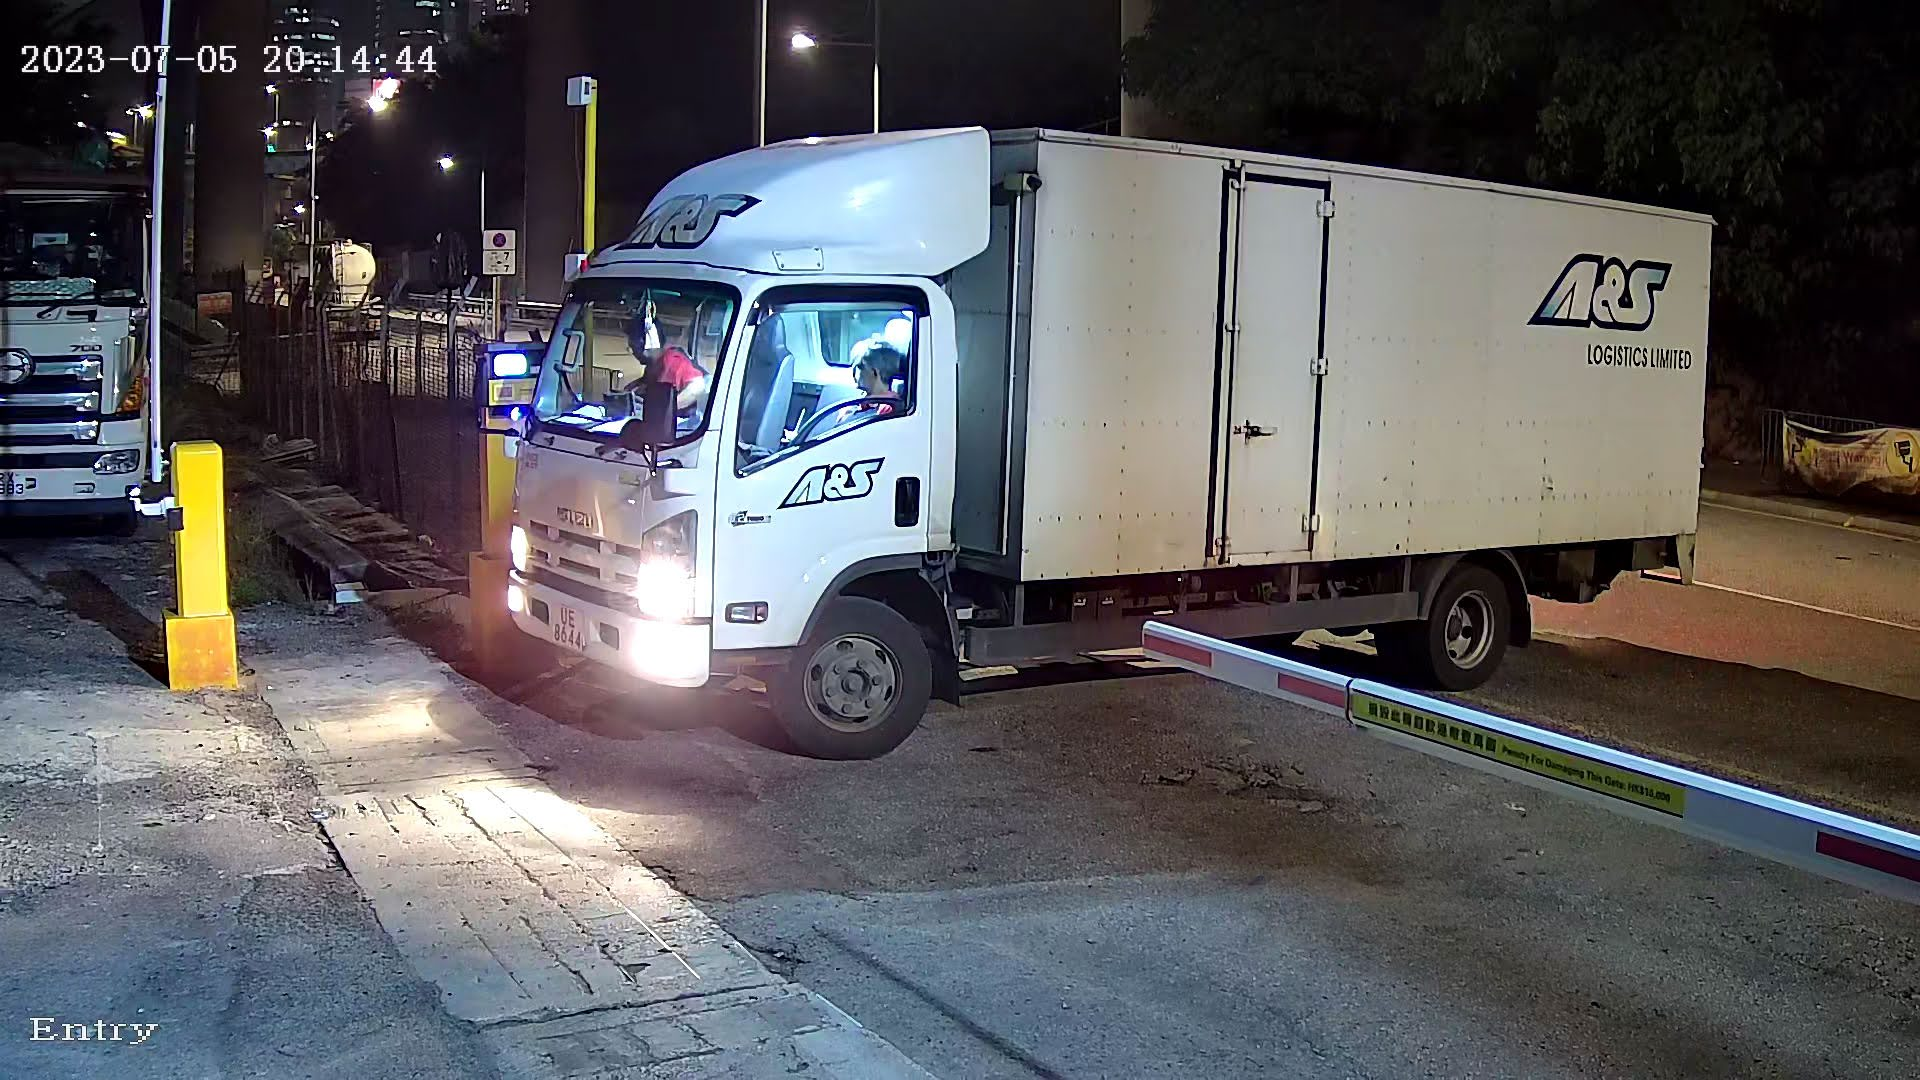truck_small: (439, 121, 1747, 769)
